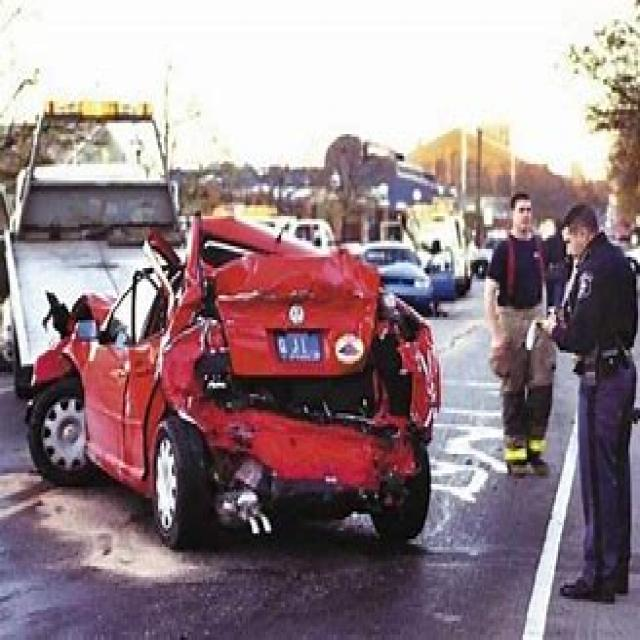Accident: (25, 88, 445, 618)
